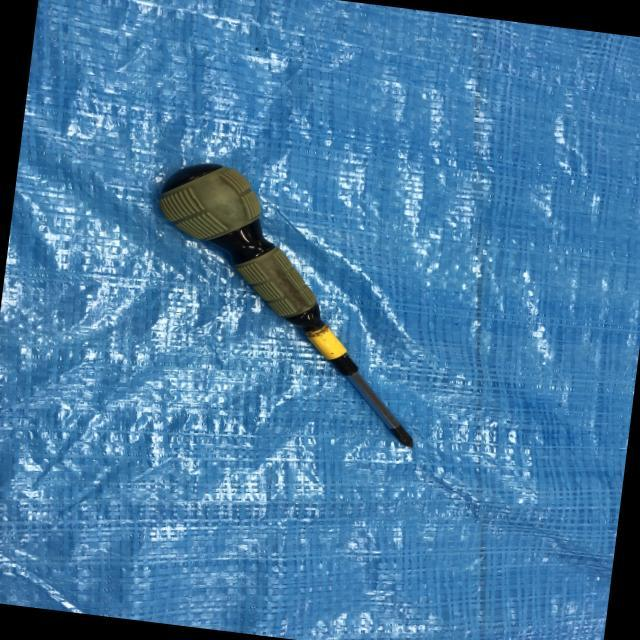screwdriver: (121, 152, 447, 452)
